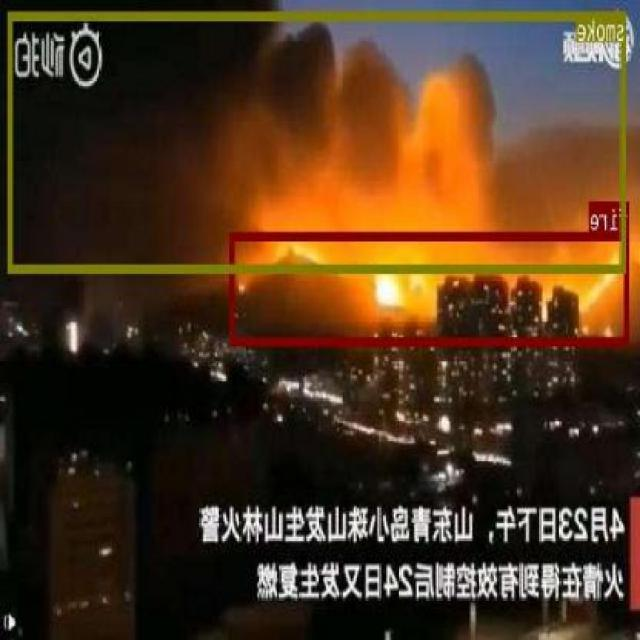Fire: (232, 232, 630, 345)
Smoke: (8, 12, 627, 272)
